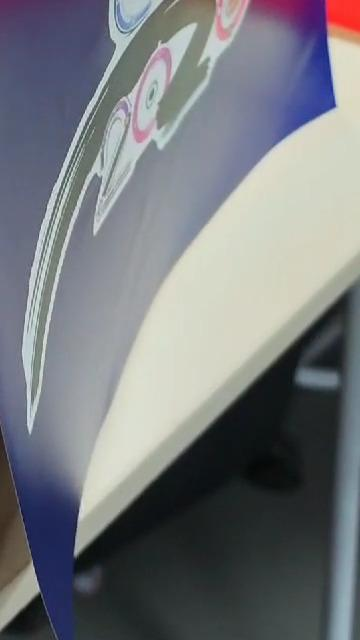B_R1: (22, 0, 319, 382)
